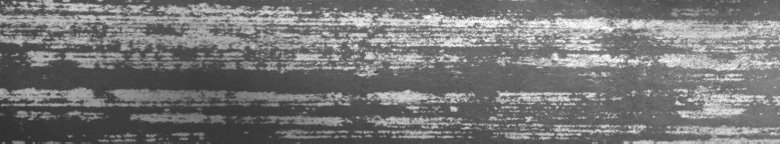kb: (4, 4, 776, 136)
